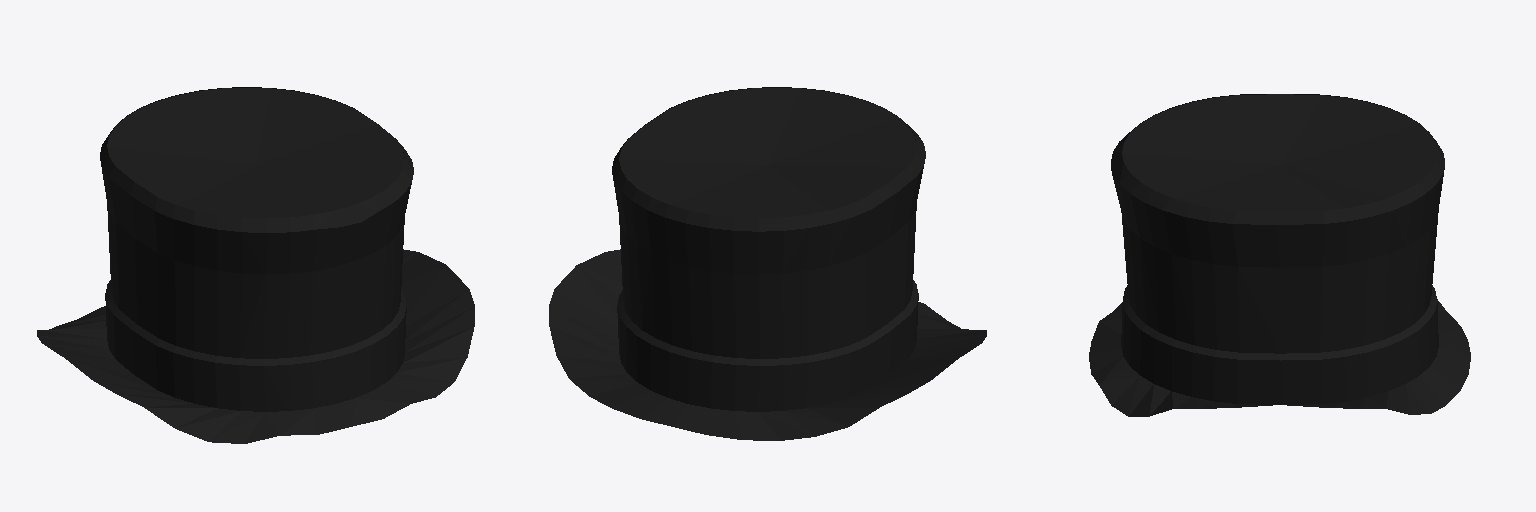
The model's file is tophat.obj.
3 views of the same model, side by side, from view 1: azimuth 30°, elevation 25°; view 2: azimuth 150°, elevation 25°; view 3: azimuth 270°, elevation 25° (orthographic).
Visible parts, largest first — view 1: Cylinder.1, Cylinder; view 2: Cylinder.1, Cylinder; view 3: Cylinder.1, Cylinder.
Boxes of the visible parts, box(x1,y1,x2,y2) form: Cylinder.1: box(65, 87, 445, 443); Cylinder: box(37, 87, 474, 443); Cylinder.1: box(549, 87, 986, 434); Cylinder: box(577, 87, 957, 440); Cylinder.1: box(1089, 94, 1470, 414); Cylinder: box(1089, 94, 1470, 416).
Size of the model in its own units: 150 by 77.45 by 130.